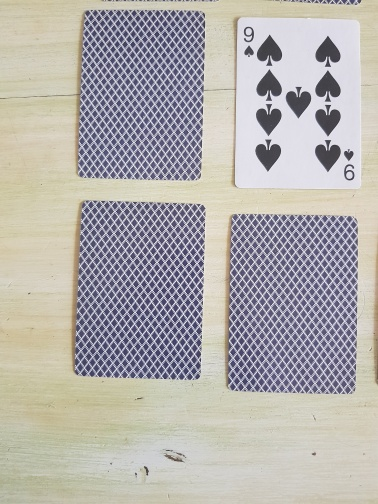nine: (233, 16, 363, 190)
